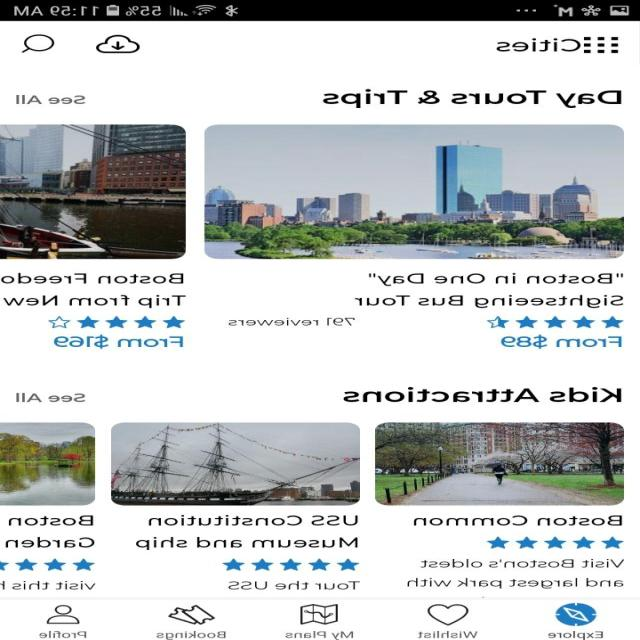Icon: (487, 315, 625, 328), (223, 558, 360, 571), (49, 315, 186, 328), (487, 536, 625, 548), (1, 558, 96, 571), (168, 604, 216, 624), (556, 602, 596, 626), (428, 603, 470, 625), (300, 603, 338, 625), (96, 35, 142, 53), (47, 604, 81, 624), (22, 34, 56, 53), (583, 36, 619, 53)
Image: (204, 125, 624, 259), (1, 125, 187, 259), (111, 422, 361, 506), (375, 422, 625, 505), (1, 422, 96, 505)
Text: (355, 272, 625, 308), (136, 514, 358, 550), (407, 558, 625, 589), (1, 273, 187, 308), (322, 88, 622, 108), (343, 386, 622, 402), (6, 515, 96, 548), (413, 514, 623, 526), (54, 334, 184, 349), (502, 334, 622, 349), (229, 580, 361, 590), (496, 38, 582, 52), (228, 317, 356, 326), (1, 580, 97, 590), (16, 393, 86, 402), (16, 95, 86, 104), (156, 630, 226, 639), (285, 630, 354, 639), (548, 630, 602, 640), (418, 630, 478, 638), (40, 630, 88, 638)
